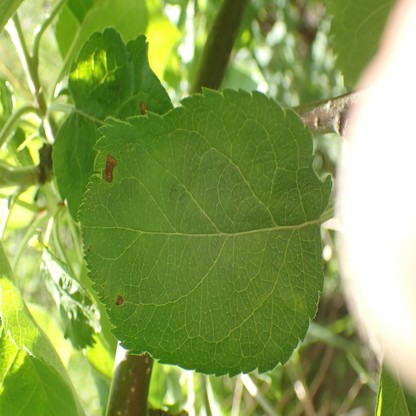frogeye_leaf_spot: (105, 154, 117, 183), (139, 99, 148, 116), (114, 295, 123, 305)
